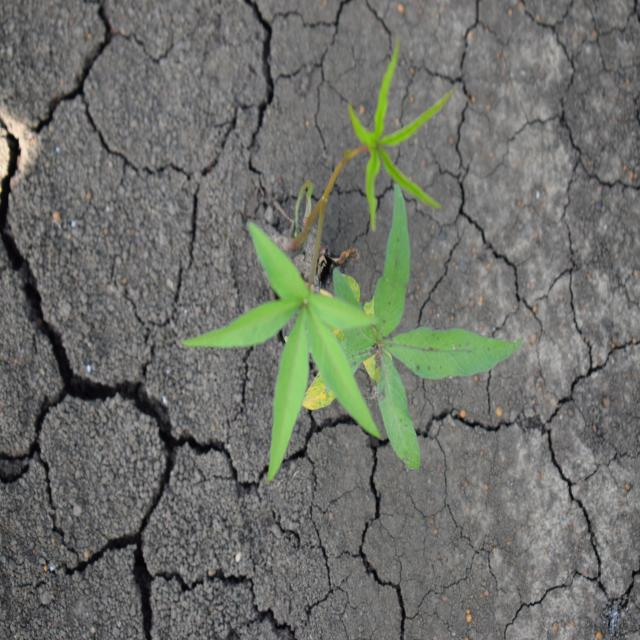MorningGlory: (180, 32, 525, 484)
